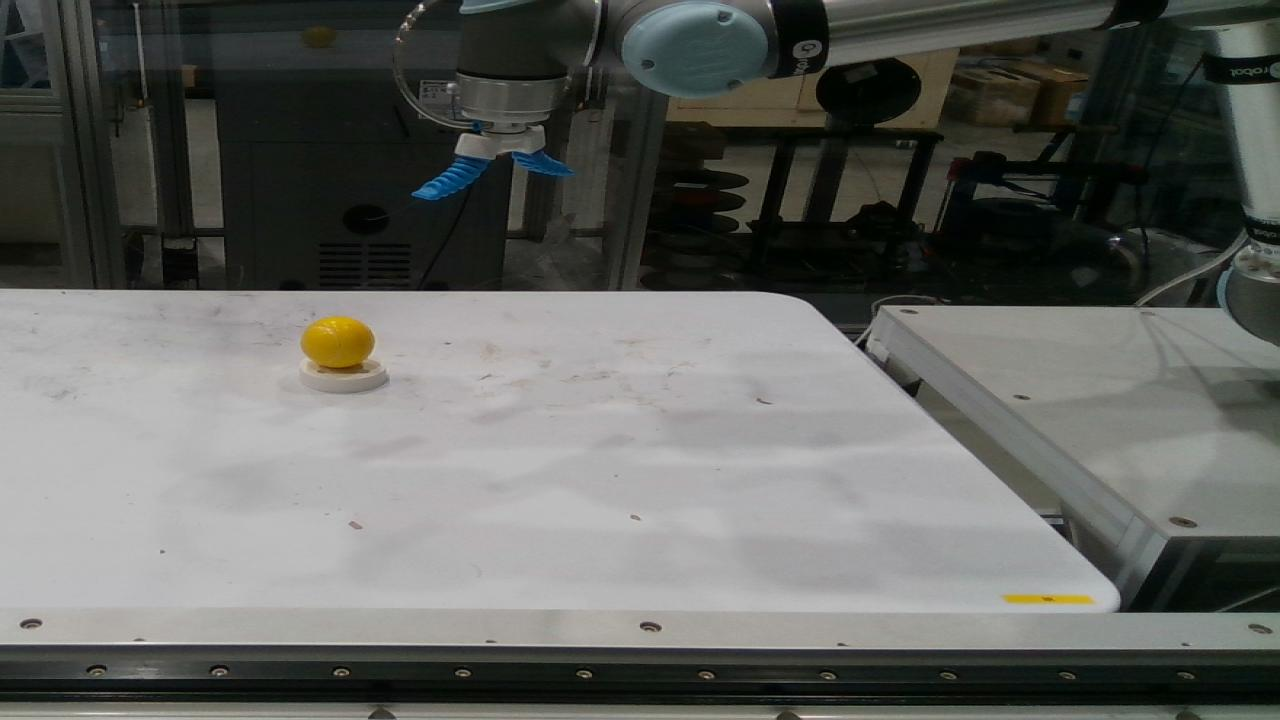UR5: (449, 0, 1279, 345)
gripper_left: (509, 149, 573, 177)
gripper_right: (412, 156, 492, 200)
target: (300, 316, 375, 369), (297, 359, 388, 393)
